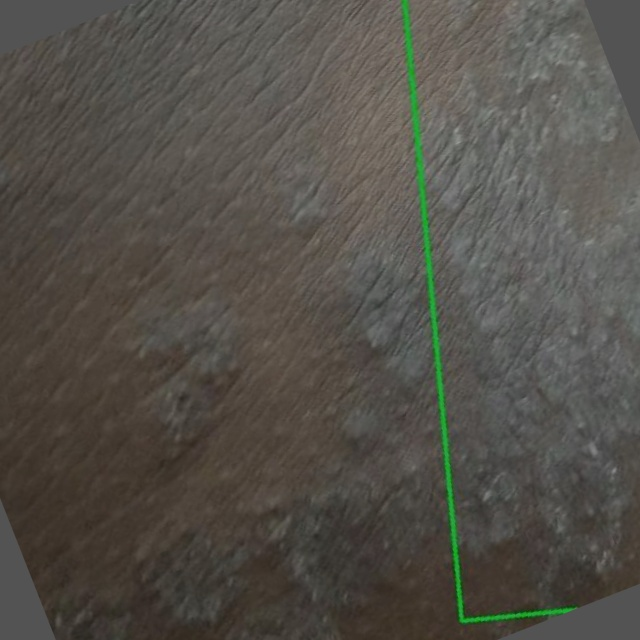Tinea Corporis: (296, 0, 639, 622)
